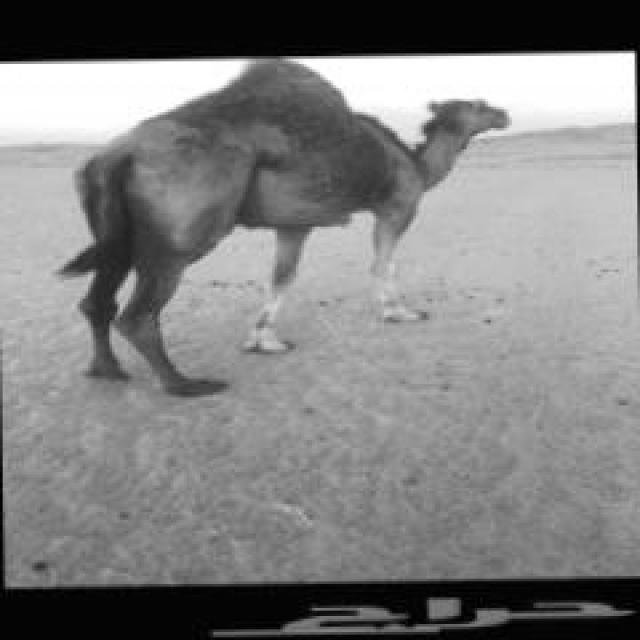Camel: (53, 56, 510, 395)
